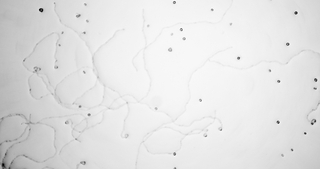germinated: (51, 59, 60, 69), (218, 121, 225, 131), (121, 132, 129, 140), (307, 116, 316, 123), (33, 65, 39, 75), (76, 159, 86, 165), (64, 117, 72, 124), (203, 129, 209, 137)
nongerminated: (166, 45, 174, 54), (38, 6, 46, 14), (301, 129, 308, 137), (227, 20, 234, 28), (283, 41, 290, 48), (235, 54, 242, 61), (153, 105, 160, 112), (312, 75, 318, 83), (170, 150, 178, 156), (74, 12, 80, 20), (293, 9, 299, 16), (276, 77, 282, 84), (275, 118, 281, 125), (209, 6, 215, 13), (81, 29, 87, 36), (145, 22, 151, 29), (312, 85, 318, 91), (267, 67, 273, 73), (197, 97, 203, 103), (181, 36, 187, 42), (178, 26, 184, 32), (171, 0, 177, 6), (86, 111, 92, 117), (82, 68, 88, 74), (59, 29, 65, 35), (82, 2, 89, 7), (289, 147, 294, 153), (77, 104, 82, 110), (84, 18, 90, 23), (57, 43, 61, 48)
